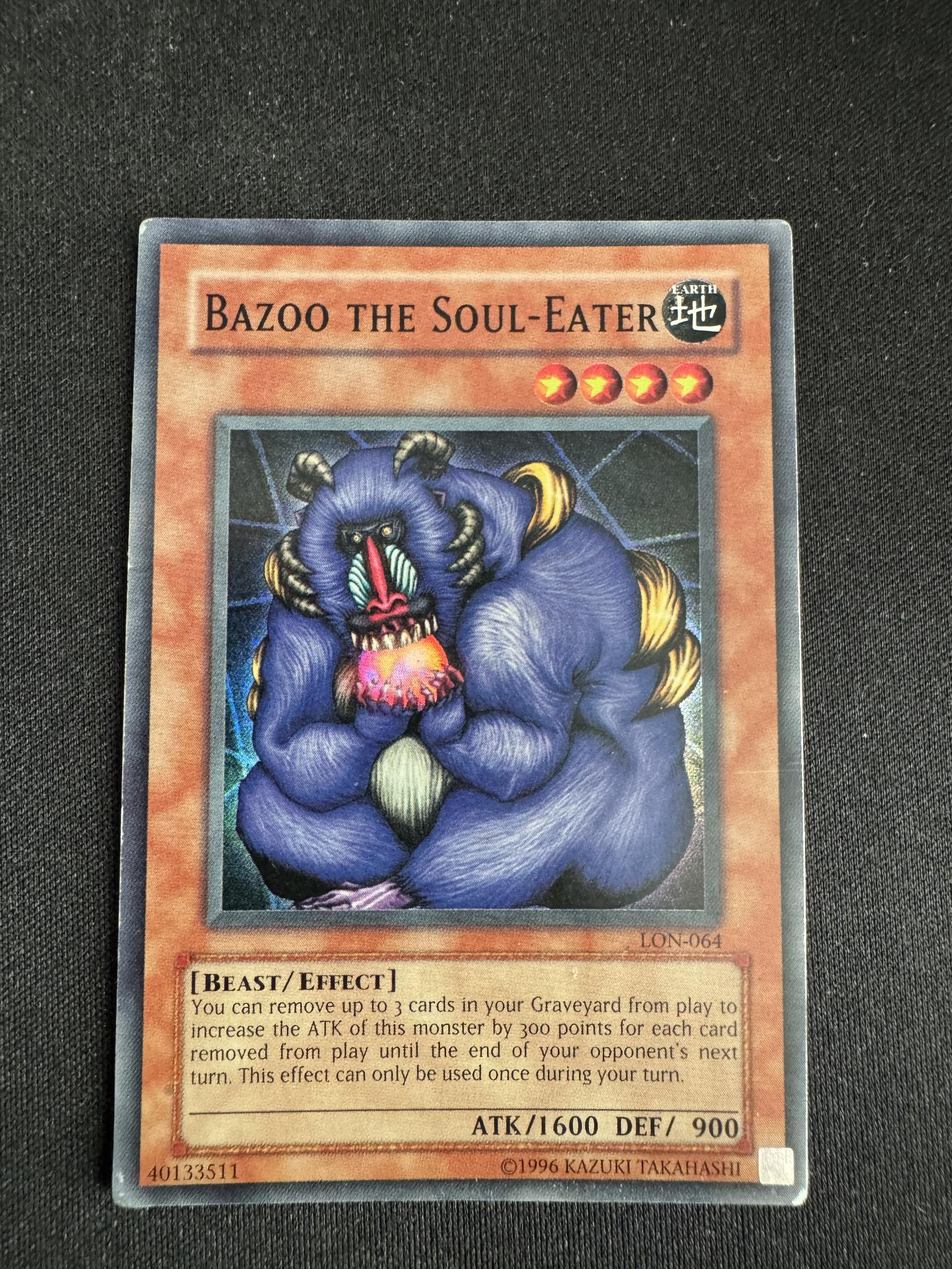card-2UtV: (112, 217, 808, 1208)
